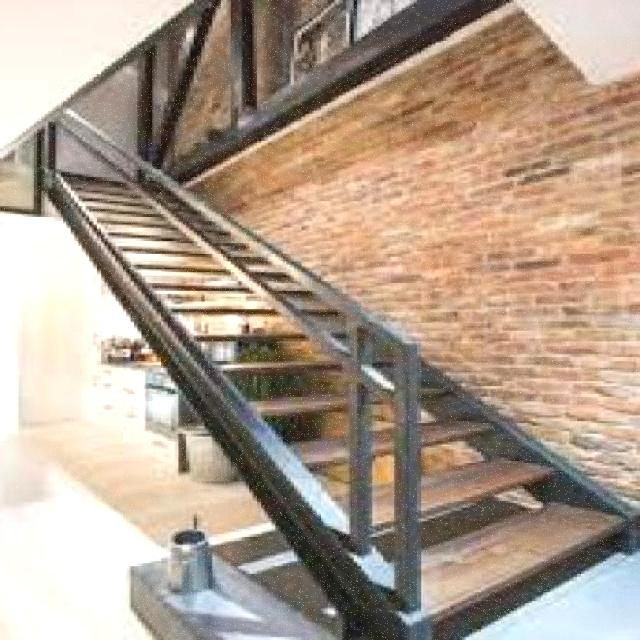stair: (45, 45, 638, 638)
